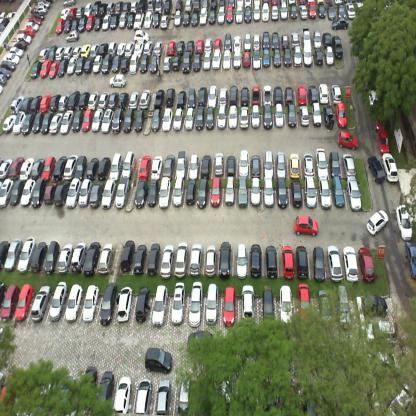car: (382, 382, 412, 415), (366, 319, 398, 348), (61, 289, 86, 326), (142, 346, 172, 374), (80, 287, 102, 325), (28, 288, 51, 324), (46, 290, 69, 326), (96, 288, 118, 324), (372, 352, 402, 378), (354, 240, 374, 277), (35, 373, 55, 410), (150, 293, 171, 328), (114, 289, 136, 322), (132, 291, 154, 324), (0, 284, 19, 322), (113, 374, 131, 414), (168, 291, 189, 325), (13, 289, 36, 320), (366, 207, 389, 238), (145, 240, 165, 275), (324, 242, 342, 280), (202, 293, 221, 329), (96, 369, 114, 406), (4, 238, 23, 273), (361, 292, 387, 317), (18, 237, 36, 273), (58, 376, 76, 412), (41, 239, 60, 273), (68, 240, 87, 274), (337, 283, 351, 329), (187, 332, 217, 353), (293, 214, 319, 238), (76, 176, 94, 210), (144, 177, 162, 211), (293, 243, 311, 277), (135, 379, 152, 415), (396, 204, 413, 240), (53, 241, 72, 273), (197, 377, 213, 415), (240, 284, 255, 324), (222, 286, 237, 326), (187, 292, 204, 327), (82, 240, 100, 273), (340, 241, 356, 278), (82, 367, 98, 404), (156, 378, 172, 415), (88, 174, 105, 208), (278, 244, 295, 278), (310, 242, 326, 278), (30, 241, 48, 273), (279, 284, 293, 325), (298, 281, 311, 325), (219, 377, 234, 415), (160, 241, 177, 274), (174, 243, 191, 276), (177, 376, 191, 416), (318, 288, 332, 328), (203, 241, 218, 278), (367, 153, 386, 182), (170, 176, 186, 210), (188, 242, 204, 276), (263, 243, 279, 277), (0, 382, 17, 414), (344, 176, 362, 206), (234, 241, 249, 277), (65, 176, 81, 209), (113, 177, 129, 210), (156, 178, 172, 211), (132, 240, 148, 273), (217, 242, 233, 275), (281, 382, 297, 415), (100, 178, 116, 210), (382, 152, 398, 184), (96, 244, 113, 274), (248, 240, 263, 274), (264, 381, 279, 415), (301, 385, 318, 415), (262, 286, 274, 328), (316, 177, 332, 208), (52, 180, 70, 207), (337, 128, 359, 150), (314, 148, 330, 178), (118, 242, 134, 272), (31, 178, 46, 209), (133, 177, 146, 212), (73, 154, 91, 179), (20, 176, 35, 206), (341, 149, 357, 177), (244, 378, 256, 415), (84, 153, 101, 179), (330, 179, 345, 208), (197, 179, 211, 210), (288, 180, 304, 207), (122, 106, 137, 134), (288, 147, 302, 177), (301, 148, 315, 178), (235, 179, 249, 209), (262, 178, 276, 208), (276, 179, 290, 209), (63, 153, 78, 181), (90, 106, 106, 132), (96, 154, 112, 180), (9, 180, 25, 206), (328, 148, 342, 177), (209, 180, 223, 209), (276, 148, 289, 179), (304, 178, 317, 209), (0, 177, 13, 208), (122, 155, 138, 180), (405, 240, 415, 280), (101, 107, 115, 135), (112, 107, 126, 135), (332, 101, 347, 127), (186, 152, 201, 178), (41, 155, 56, 181), (109, 155, 125, 179), (248, 150, 262, 177), (184, 179, 196, 210), (133, 108, 147, 134), (149, 154, 163, 180), (138, 155, 153, 179), (263, 147, 275, 177), (249, 179, 261, 209), (19, 156, 34, 180), (150, 106, 163, 133), (164, 152, 178, 177), (199, 152, 213, 177), (210, 152, 224, 177), (53, 156, 67, 181), (21, 111, 35, 136), (368, 87, 382, 112), (224, 179, 236, 208), (376, 128, 389, 154), (60, 108, 73, 134), (174, 153, 188, 177), (224, 150, 236, 178), (44, 180, 58, 204), (0, 242, 11, 272), (194, 107, 206, 133), (8, 159, 24, 178), (162, 107, 174, 132), (238, 105, 250, 130), (237, 152, 249, 177), (40, 111, 53, 134), (333, 34, 344, 61), (67, 90, 81, 111), (49, 112, 63, 133), (13, 111, 25, 135), (311, 102, 322, 128), (321, 104, 334, 126), (71, 110, 84, 132), (32, 112, 45, 134), (30, 158, 44, 178), (10, 94, 24, 114), (262, 105, 274, 128), (274, 105, 286, 128), (298, 105, 310, 128), (331, 81, 343, 104), (82, 108, 94, 131), (184, 106, 194, 133), (2, 114, 16, 133), (216, 107, 227, 131), (138, 87, 150, 109), (30, 92, 42, 114), (174, 108, 184, 134), (318, 82, 330, 103), (108, 75, 126, 89), (252, 105, 262, 130), (330, 16, 349, 29), (205, 108, 216, 130), (228, 106, 239, 128), (0, 158, 12, 178), (208, 84, 218, 108), (78, 90, 90, 110), (49, 92, 61, 112), (39, 57, 51, 77), (128, 54, 140, 74), (182, 50, 192, 74), (210, 49, 222, 69), (132, 10, 144, 30), (108, 91, 121, 109), (30, 60, 43, 78), (48, 59, 61, 77), (286, 105, 297, 126), (40, 93, 52, 112), (66, 56, 78, 75), (101, 53, 113, 72), (64, 29, 80, 43), (262, 84, 272, 106), (250, 84, 260, 106), (92, 52, 103, 72), (202, 50, 212, 72), (252, 48, 262, 70), (128, 90, 140, 108), (57, 58, 69, 76), (186, 87, 196, 108), (292, 47, 302, 68), (83, 56, 94, 75), (150, 54, 161, 73), (87, 92, 100, 108), (153, 39, 165, 56), (284, 85, 294, 105), (218, 87, 228, 107), (165, 88, 175, 108), (154, 88, 164, 108), (222, 49, 232, 69), (303, 46, 313, 66), (312, 28, 322, 48), (216, 4, 226, 24), (58, 94, 69, 112), (313, 48, 324, 66), (84, 14, 95, 32), (122, 41, 135, 56), (117, 92, 129, 108), (21, 96, 33, 112), (0, 60, 16, 72), (117, 11, 129, 27), (197, 88, 207, 107), (111, 53, 121, 72), (192, 53, 202, 72), (234, 5, 244, 24), (143, 10, 153, 29), (109, 12, 119, 31), (78, 14, 88, 33), (229, 85, 238, 106), (271, 28, 280, 49), (176, 91, 187, 108), (3, 53, 20, 64), (75, 57, 86, 74), (297, 84, 306, 104), (240, 86, 249, 106), (120, 55, 130, 73), (132, 30, 150, 40), (162, 56, 172, 74), (282, 49, 292, 67), (291, 29, 301, 47), (302, 27, 312, 45), (324, 47, 334, 65), (336, 0, 346, 18), (226, 2, 235, 22), (172, 9, 182, 27), (152, 10, 162, 28), (126, 12, 136, 30), (99, 92, 110, 108), (133, 40, 144, 56), (252, 4, 261, 23), (140, 55, 150, 72), (198, 7, 208, 24), (101, 13, 111, 30), (263, 48, 271, 69), (9, 46, 24, 57), (308, 84, 317, 102), (272, 48, 281, 66), (281, 31, 290, 49), (290, 2, 299, 20), (279, 2, 288, 20), (190, 9, 199, 27), (56, 18, 66, 34), (234, 49, 242, 69), (261, 30, 271, 46), (326, 3, 336, 19), (298, 4, 308, 20), (262, 2, 270, 22), (17, 33, 31, 44), (21, 27, 35, 38), (55, 45, 66, 59), (80, 42, 91, 56), (244, 4, 252, 23), (39, 46, 49, 61), (48, 45, 58, 60), (98, 41, 108, 56), (166, 40, 176, 55), (204, 36, 214, 51), (212, 36, 222, 51), (182, 10, 192, 25), (159, 14, 169, 29), (70, 16, 80, 31), (91, 0, 101, 15), (355, 0, 365, 15), (274, 85, 282, 103), (0, 66, 12, 78), (63, 46, 75, 58), (224, 32, 232, 50), (243, 50, 251, 68), (253, 32, 261, 50), (323, 30, 332, 46), (346, 2, 355, 18), (308, 0, 316, 18), (271, 3, 279, 21), (208, 6, 216, 24), (25, 21, 39, 31), (28, 16, 42, 26), (108, 41, 118, 55), (115, 42, 125, 56), (143, 40, 153, 54), (195, 38, 204, 53), (233, 36, 242, 51), (63, 16, 72, 31), (244, 31, 251, 50), (15, 40, 27, 51), (136, 0, 148, 11), (32, 11, 45, 21), (318, 2, 326, 18), (186, 38, 195, 52), (90, 43, 100, 55), (94, 15, 102, 30), (114, 0, 124, 12), (176, 41, 185, 54), (0, 73, 9, 86), (60, 7, 70, 18), (154, 0, 164, 11), (98, 1, 107, 13), (106, 1, 115, 13), (122, 0, 131, 12), (164, 0, 173, 12), (62, 0, 77, 7), (173, 56, 180, 71), (35, 6, 48, 14), (38, 0, 51, 8), (72, 46, 82, 56), (74, 6, 84, 16), (129, 0, 138, 11), (84, 2, 92, 14), (146, 0, 156, 9), (174, 0, 184, 9), (69, 6, 77, 17), (184, 0, 192, 11), (192, 0, 200, 8)
